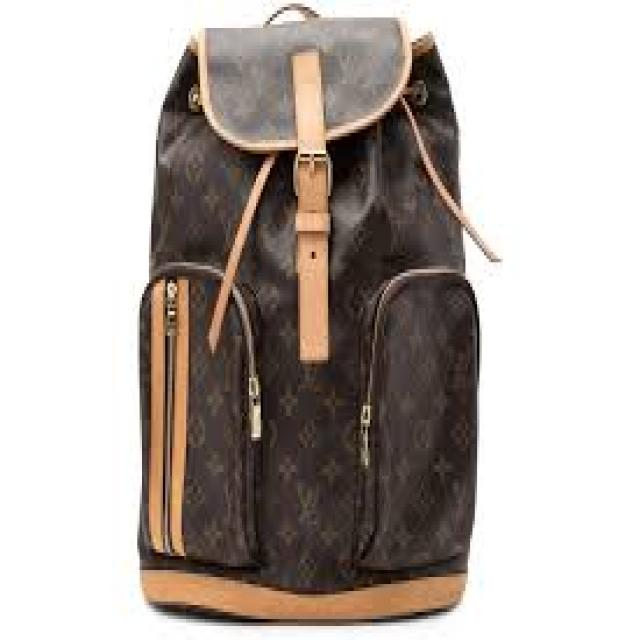backpack: (135, 0, 496, 623)
